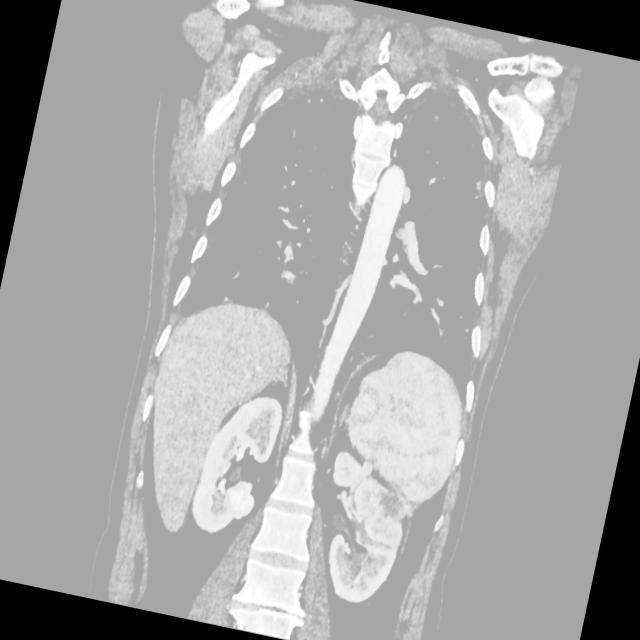TUMOR: (72, 275, 557, 575)
